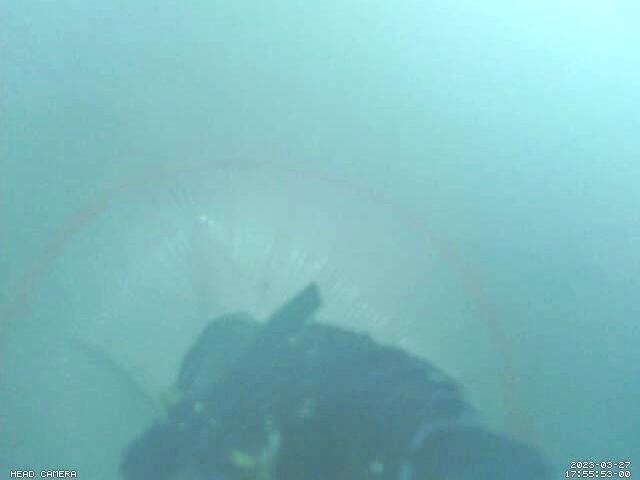head: (0, 157, 535, 448)
